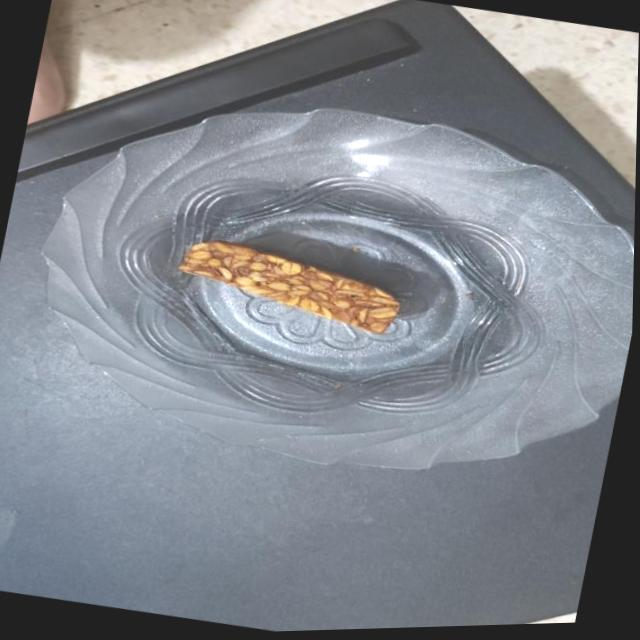tempe_goreng: (178, 240, 399, 332)
